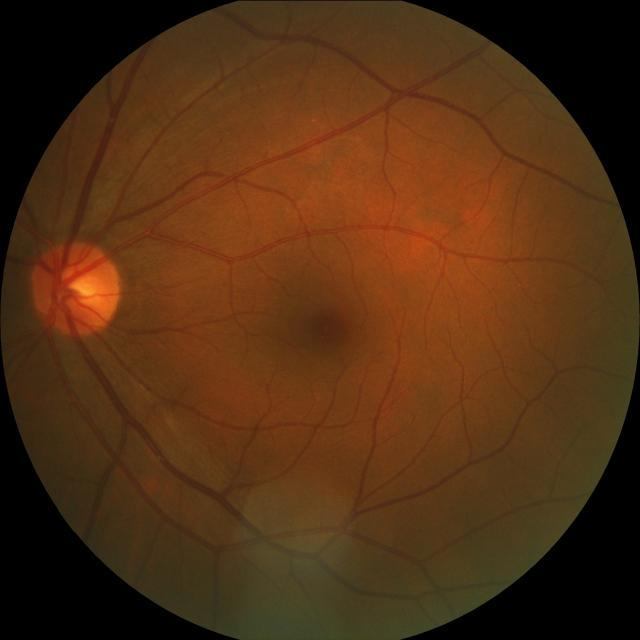OC: (64, 269, 98, 299)
OD: (34, 239, 120, 333)
